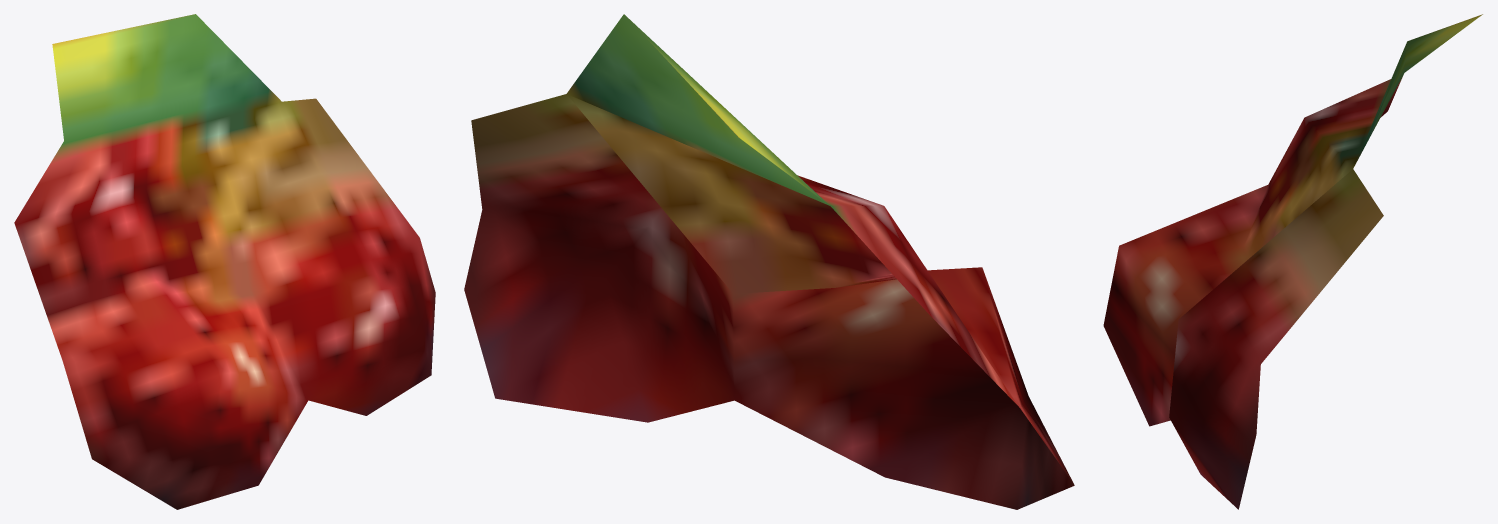
The model's file is fg_lychee_out.dae.
The picture shows the model from 3 angles, left to right: view 1: azimuth 30°, elevation 25°; view 2: azimuth 150°, elevation 25°; view 3: azimuth 270°, elevation 25°; orthographic projection. The views are drawn at different scales.
Visible parts, largest first — view 1: fg_lychee_out; view 2: fg_lychee_out; view 3: fg_lychee_out.
Boxes of the visible parts, x1,y1,x2,y2 form: fg_lychee_out: [14, 14, 435, 509]; fg_lychee_out: [464, 14, 1074, 509]; fg_lychee_out: [1103, 14, 1482, 509].
Size of the model in its own units: 16.27 by 15.78 by 13.04.
Materials: 1 (1 with a texture image).
